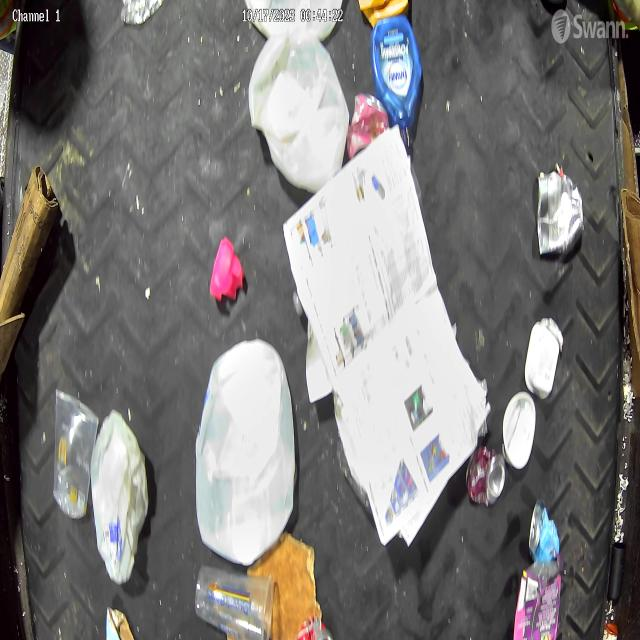can: (534, 170, 583, 261), (346, 93, 389, 158), (467, 443, 508, 507), (528, 498, 562, 564)
milk_jug: (195, 338, 296, 563), (248, 29, 351, 192), (90, 409, 148, 582)
